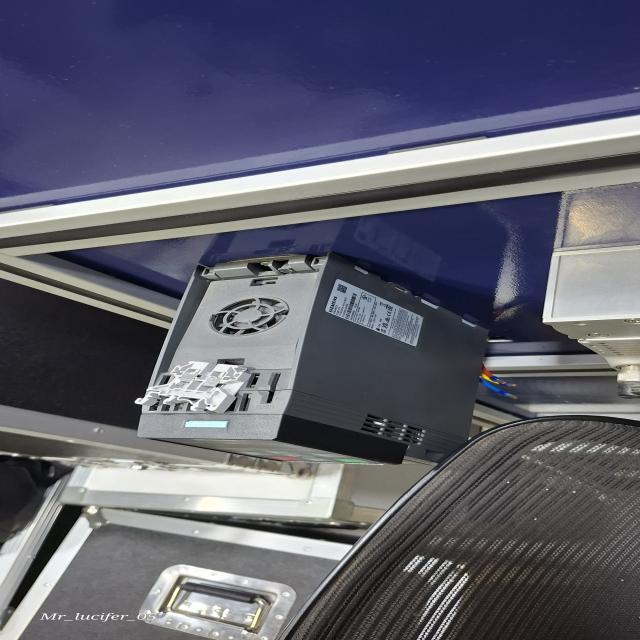Pass: (132, 359, 254, 414)
